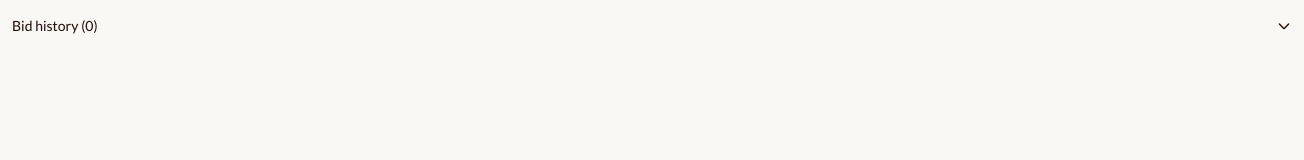
BidHistory › expanded state › shows empty state message when no bids
This screenshot has width=1304, height=160.
Step 1. Click the button "Bid history (0)" → (45, 26), box x1=12 y1=16 x2=1292 y2=36
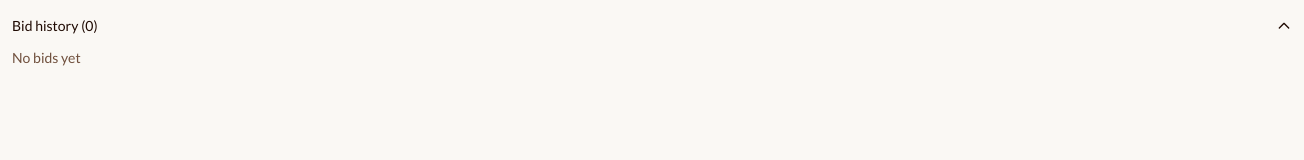
Check: the text "No bids yet" is shown, box x1=12 y1=49 x2=81 y2=66
